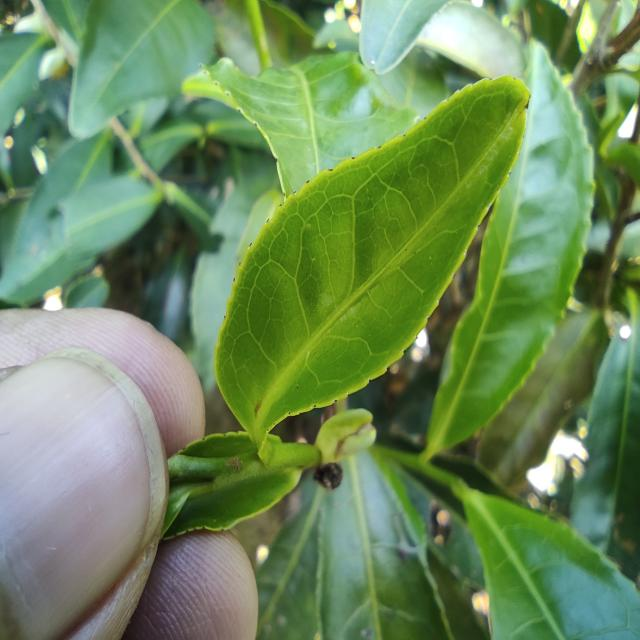Category C(4-7 days): (211, 55, 539, 454)
